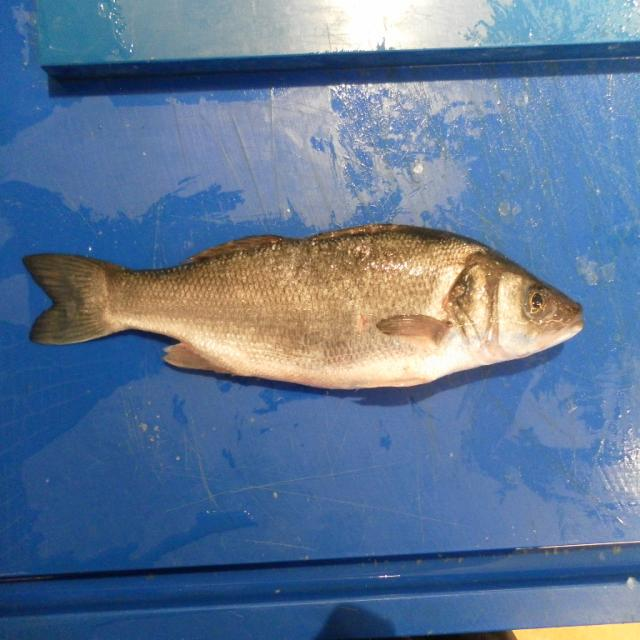Sea-Bass-levrek-: (23, 224, 584, 393)
